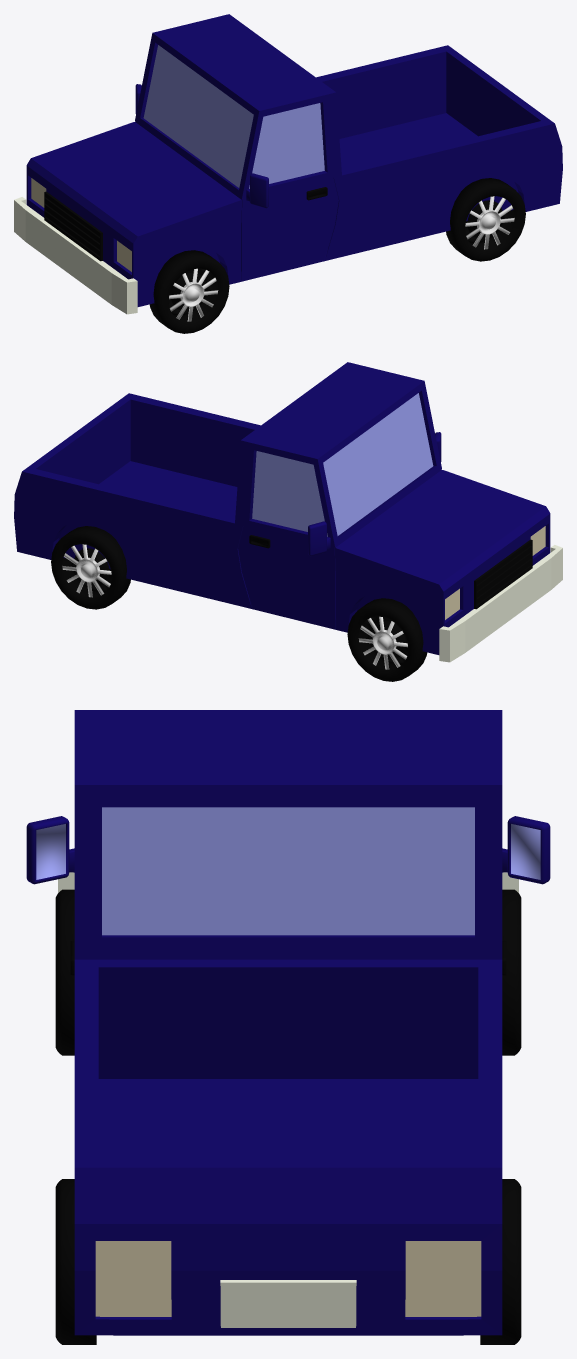
The picture shows the model from 3 angles, top to bottom: view 1: azimuth 30°, elevation 25°; view 2: azimuth 150°, elevation 25°; view 3: azimuth 270°, elevation 25°; orthographic projection. The views are drawn at different scales.
Parts seen in each view (by area): view 1: Vert.003; view 2: Vert.003; view 3: Vert.003.
Boxes of the visible parts, bbox=[...] form: Vert.003: bbox=[14, 14, 562, 333]; Vert.003: bbox=[14, 362, 562, 681]; Vert.003: bbox=[26, 710, 550, 1344].
Size of the model in its own units: 552 by 241 by 283.
